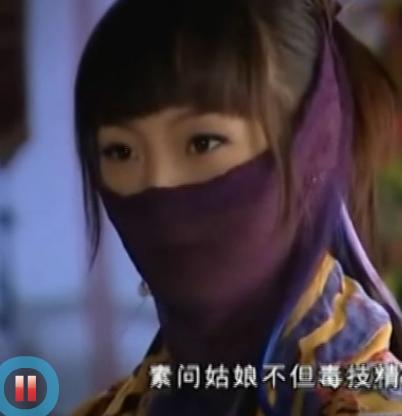face_mask: (91, 55, 285, 318)
